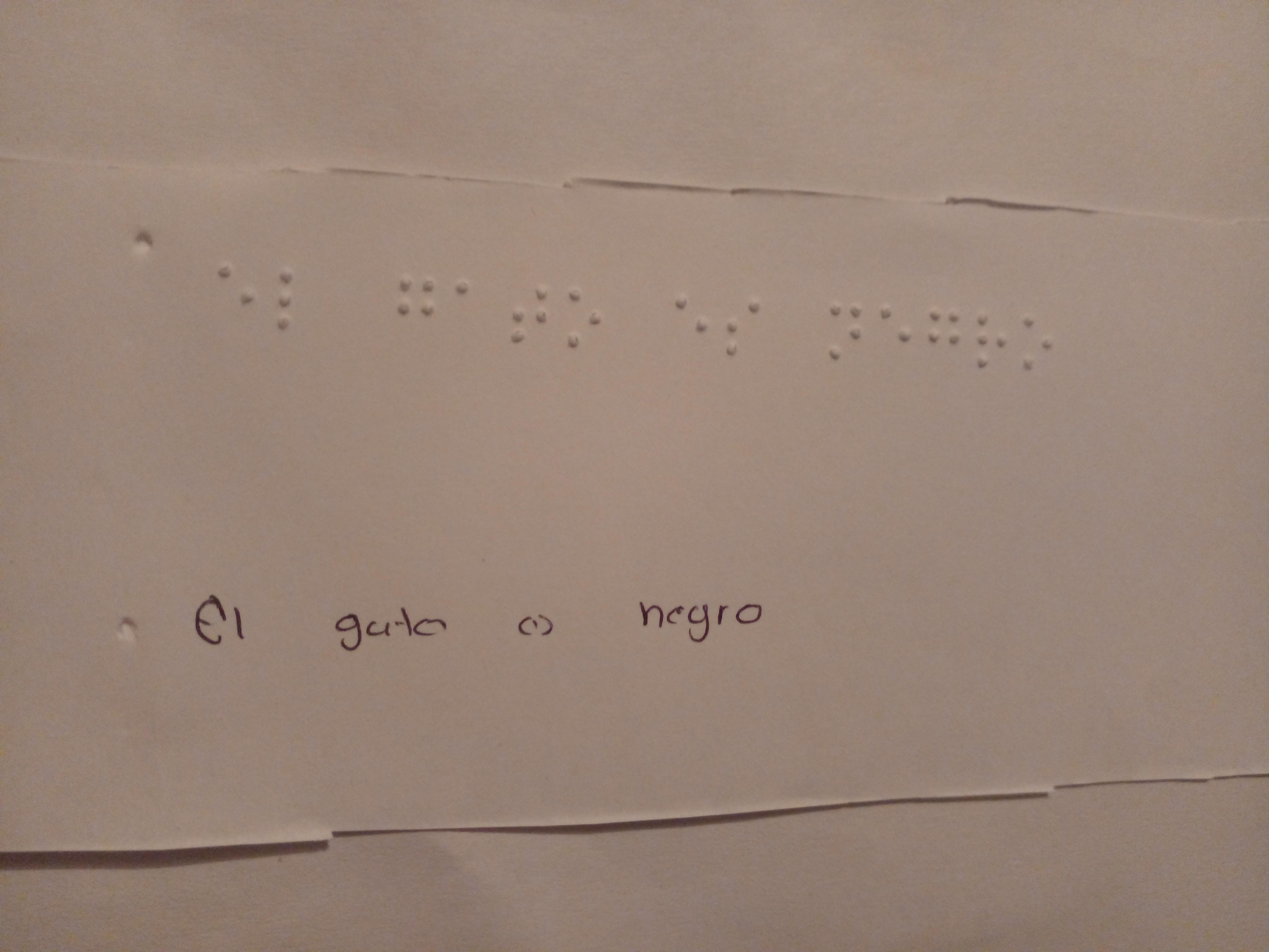a: (438, 270, 479, 324)
e: (198, 249, 271, 333), (668, 285, 713, 356), (875, 296, 912, 366)
g: (390, 262, 443, 346), (926, 296, 960, 373)
l: (271, 257, 304, 355)
n: (816, 293, 875, 366)
o: (562, 276, 612, 367), (1013, 304, 1060, 389)
r: (968, 305, 1007, 381)
s: (716, 280, 768, 372)
t: (493, 260, 561, 381)
